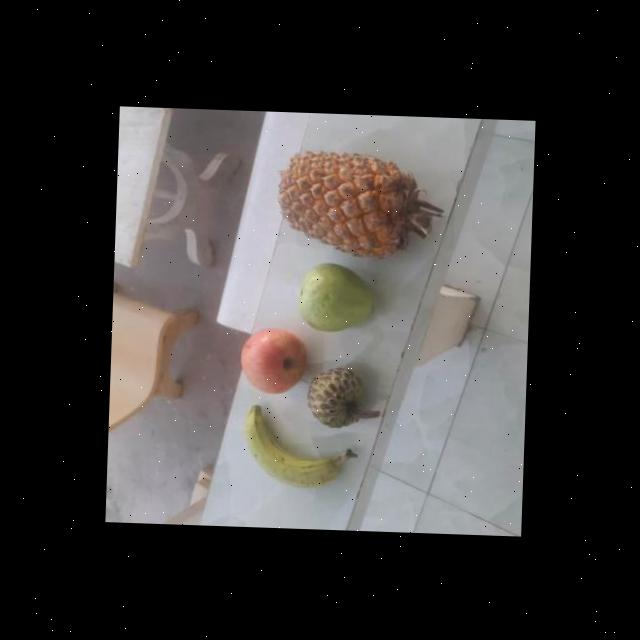Sakya fruit: (305, 363, 377, 427)
apple: (238, 323, 308, 398)
banana: (241, 402, 346, 486)
guava: (296, 258, 376, 331)
pineapple: (277, 144, 421, 255)
